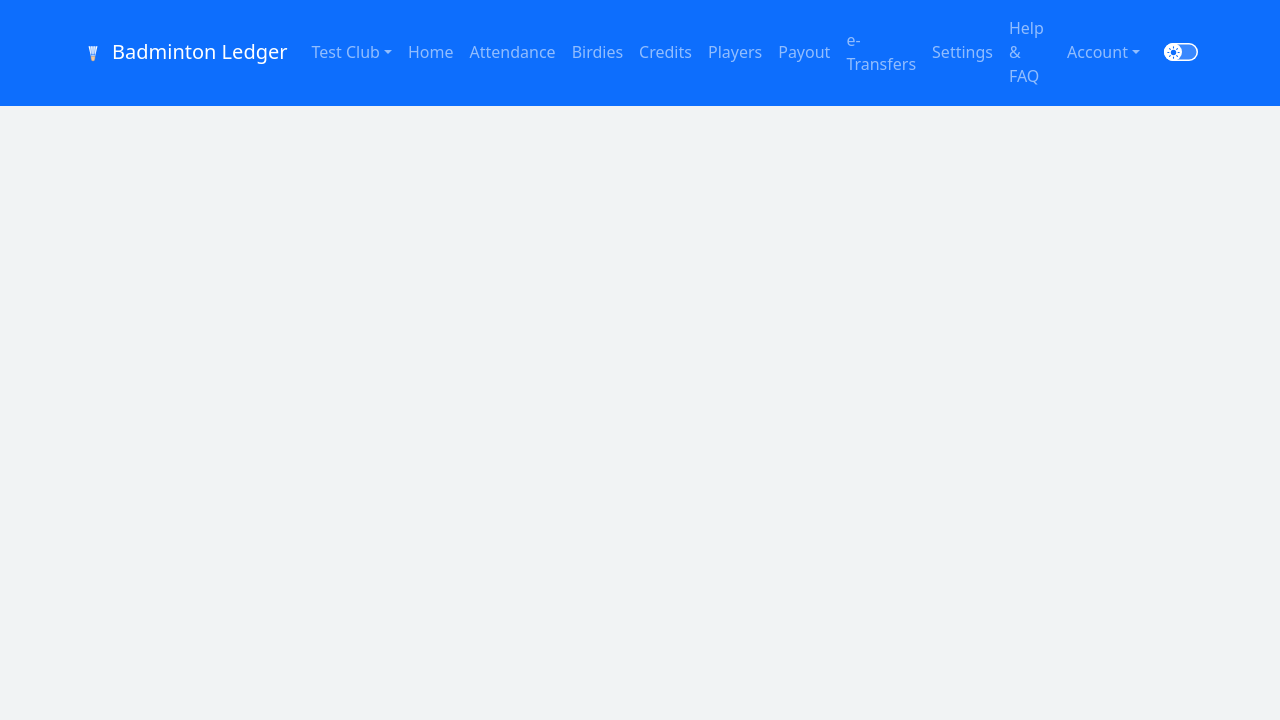
Test case: AppNavBar › toggles between light and dark mode
The image size is (1280, 720).
Click the button named "Switch to dark mode". click: (1181, 52)
box: [1164,43,1198,61]
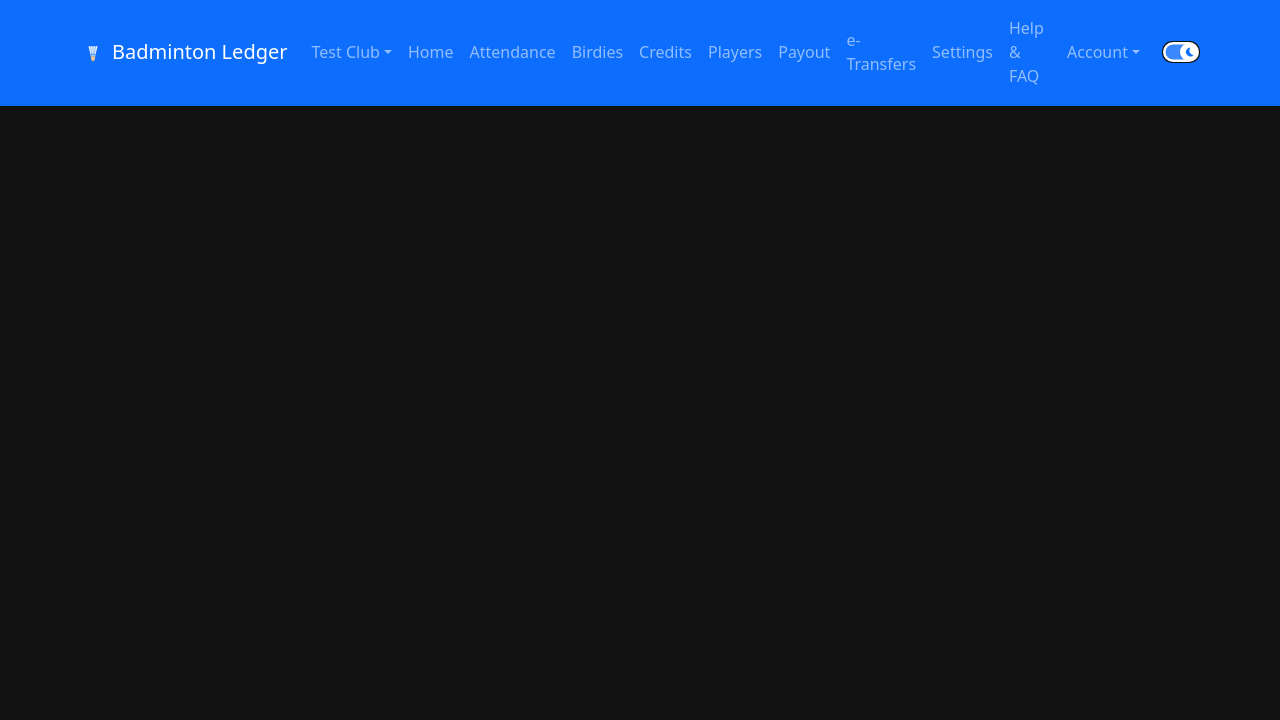
Expected: the button named "Switch to light mode" is shown
Click the button named "Switch to light mode". click: (1181, 52)
box: [1164,43,1198,61]
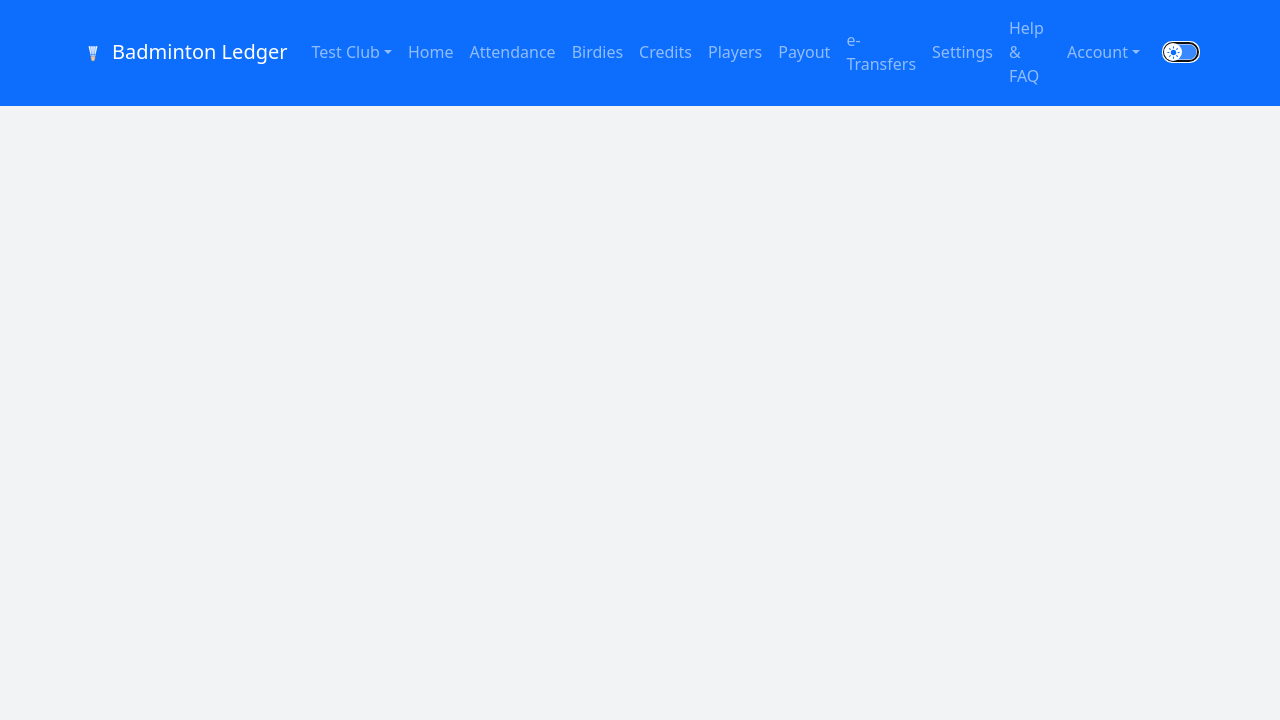
Expected: the button named "Switch to dark mode" is shown, [1164,43,1198,61]
